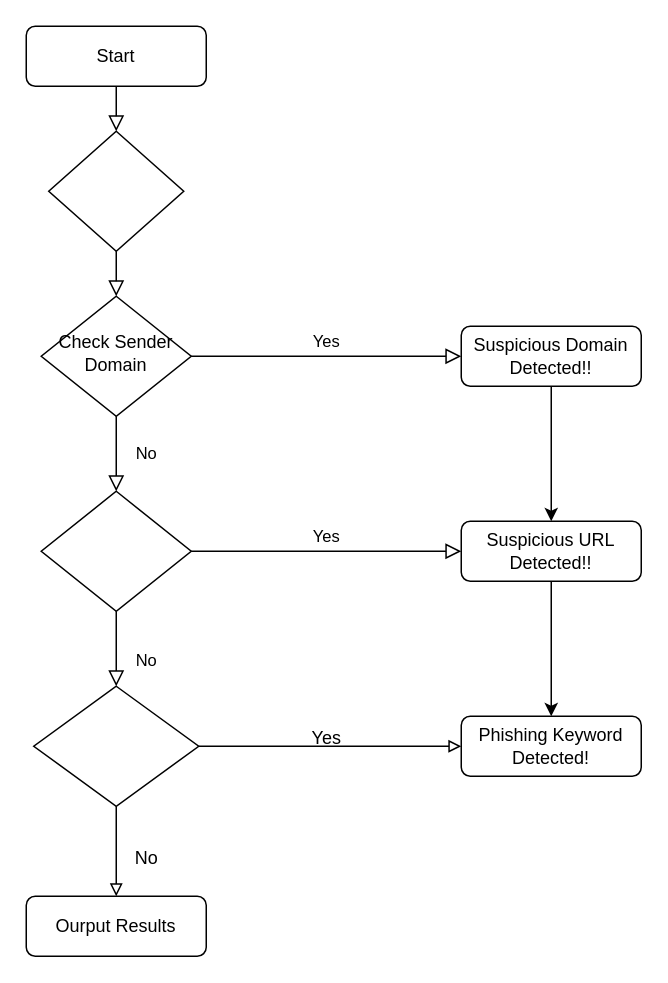
The diagram is 668 pixels wide and 983 high, and some of its shapes have lost their labels. The centre of each missing label's shape, as x and y in pixels:
Check Content: [115,745]
Check URLs: [115,550]
Input: Sender and Content: [115,190]
